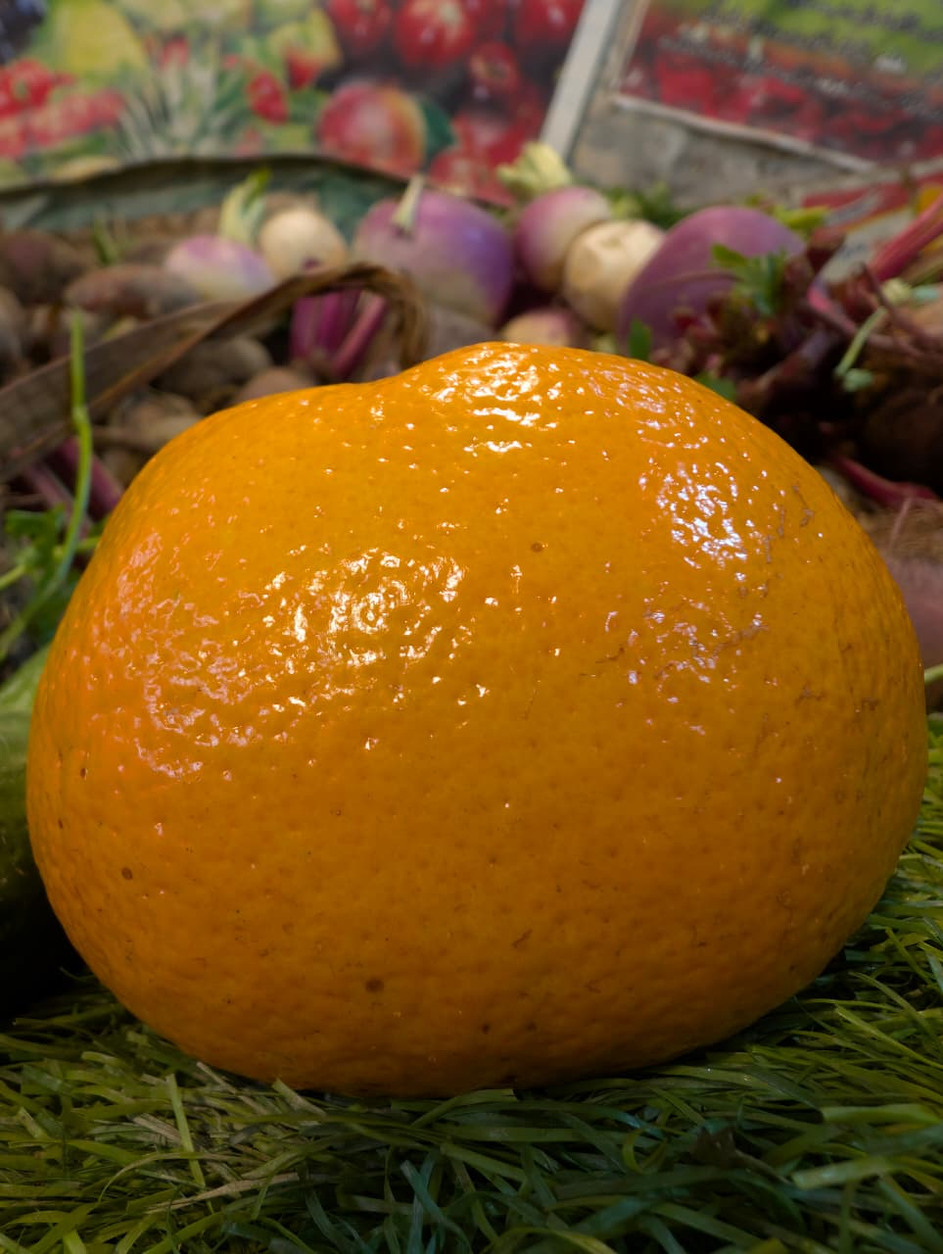orange: (211, 257, 888, 1164)
